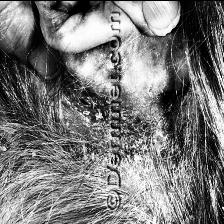Non-Cancerous Skin Condition: (130, 12, 216, 164), (34, 14, 102, 166)
